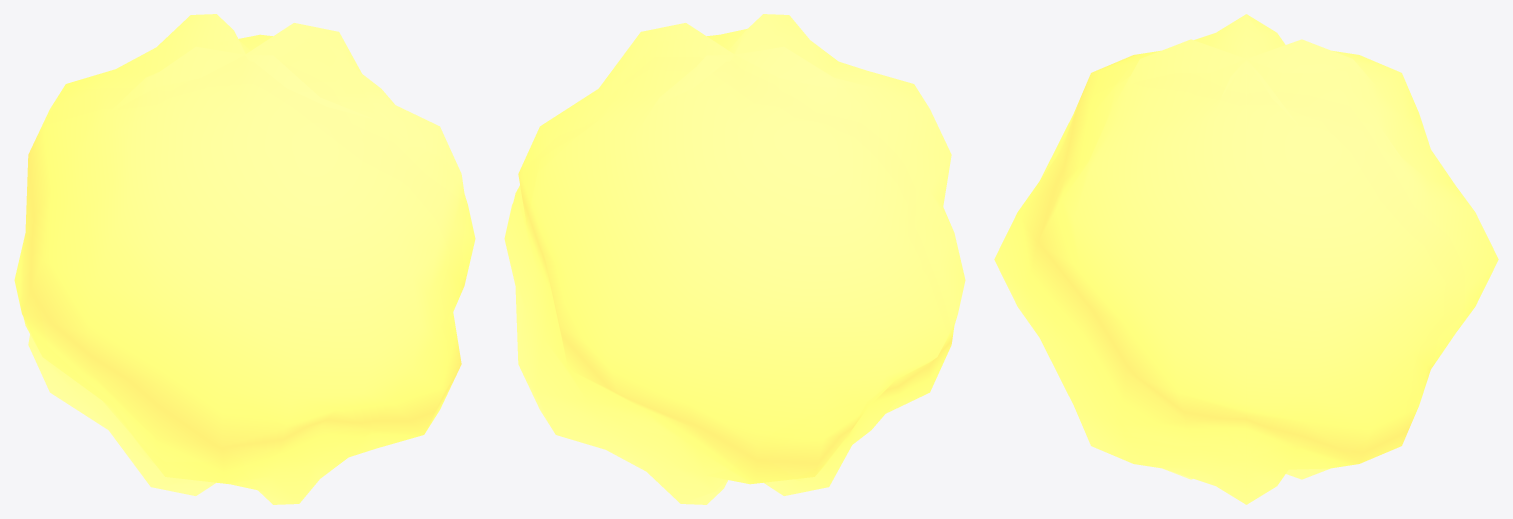
The model's file is vfx_fireball.glb.
The picture shows the model from 3 angles, left to right: view 1: azimuth 30°, elevation 25°; view 2: azimuth 150°, elevation 25°; view 3: azimuth 270°, elevation 25°; orthographic projection. The views are drawn at different scales.
Size of the model in its own units: 2.28 by 2.2 by 2.28.
